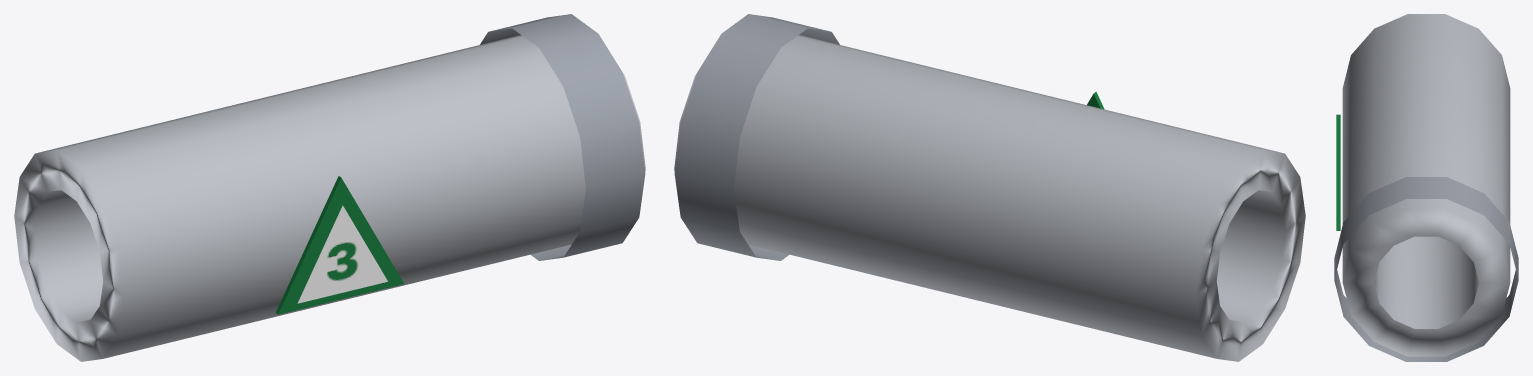
The model's file is pipe.glb.
The picture shows the model from 3 angles, left to right: view 1: azimuth 30°, elevation 25°; view 2: azimuth 150°, elevation 25°; view 3: azimuth 270°, elevation 25°; orthographic projection. The views are drawn at different scales.
Visible parts, largest first — view 1: pipe_mesh; view 2: pipe_mesh; view 3: pipe_mesh.
Boxes of the visible parts, bbox=[...] form: pipe_mesh: bbox=[14, 14, 645, 361]; pipe_mesh: bbox=[674, 14, 1305, 361]; pipe_mesh: bbox=[1334, 14, 1518, 361].
Size of the model in its own units: 1.06 by 0.4118 by 0.4224.
Materials: 1 (1 with a texture image).
